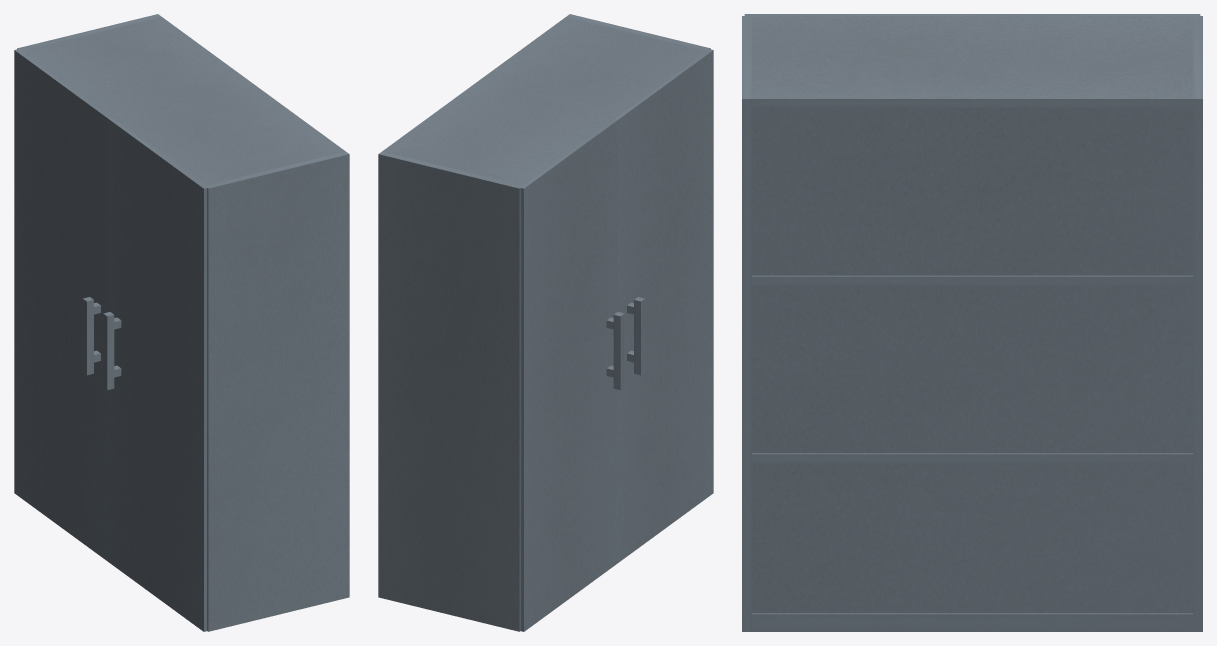
The model's file is LemariKantinKejujuran.fbx.
3 views of the same model, side by side, from view 1: azimuth 30°, elevation 25°; view 2: azimuth 150°, elevation 25°; view 3: azimuth 270°, elevation 25° (orthographic). The views are drawn at different scales.
Parts seen in each view (by area): view 1: Lemari, Cube.008, Cube.012, Cube.009, Cube.013; view 2: Lemari, Cube.012, Cube.008, Cube.009, Cube.013; view 3: Lemari.
Part boxes in pixels (<box>): Lemari: <box>17,14,349,631</box>; Cube.008: <box>108,118,209,631</box>; Cube.012: <box>14,48,111,561</box>; Cube.009: <box>103,312,114,390</box>; Cube.013: <box>82,297,93,375</box>; Lemari: <box>378,14,710,631</box>; Cube.012: <box>517,118,617,631</box>; Cube.008: <box>614,49,713,562</box>; Cube.009: <box>634,297,645,375</box>; Cube.013: <box>613,312,624,390</box>; Lemari: <box>742,16,1202,631</box>.
Bounding box in the file's own units: 225 × 600 × 470.
